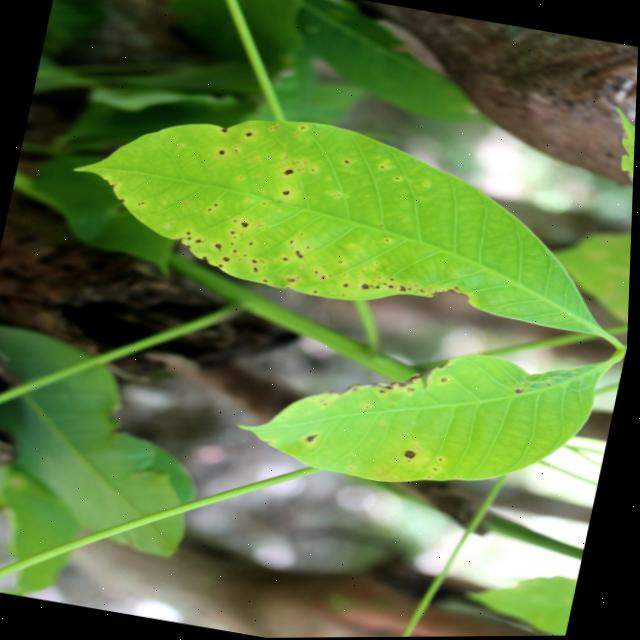Colletotrichum: (406, 450, 418, 460), (284, 169, 294, 176), (283, 190, 290, 195), (245, 132, 252, 137), (219, 150, 224, 155)
